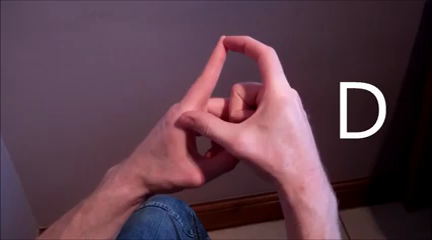D: (151, 26, 325, 198)
